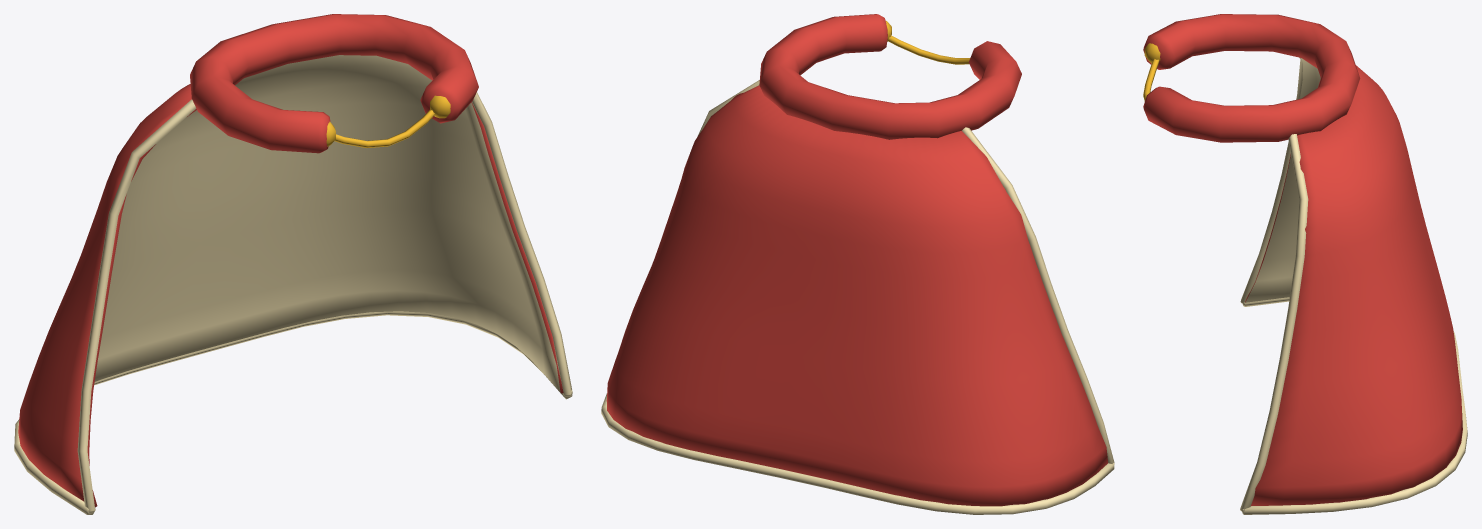
File: back_cape.glb
3 views of the same model, side by side, from view 1: azimuth 30°, elevation 25°; view 2: azimuth 150°, elevation 25°; view 3: azimuth 270°, elevation 25° (orthographic). The views are drawn at different scales.
Visible parts, largest first — view 1: BackCape; view 2: BackCape; view 3: BackCape.
Part boxes in pixels (x1,y1,x2,y2): BackCape: [14, 14, 572, 514]; BackCape: [601, 14, 1114, 514]; BackCape: [1143, 14, 1467, 514].
Bounding box in the file's own units: 0.8143 × 0.6111 × 0.5107.
